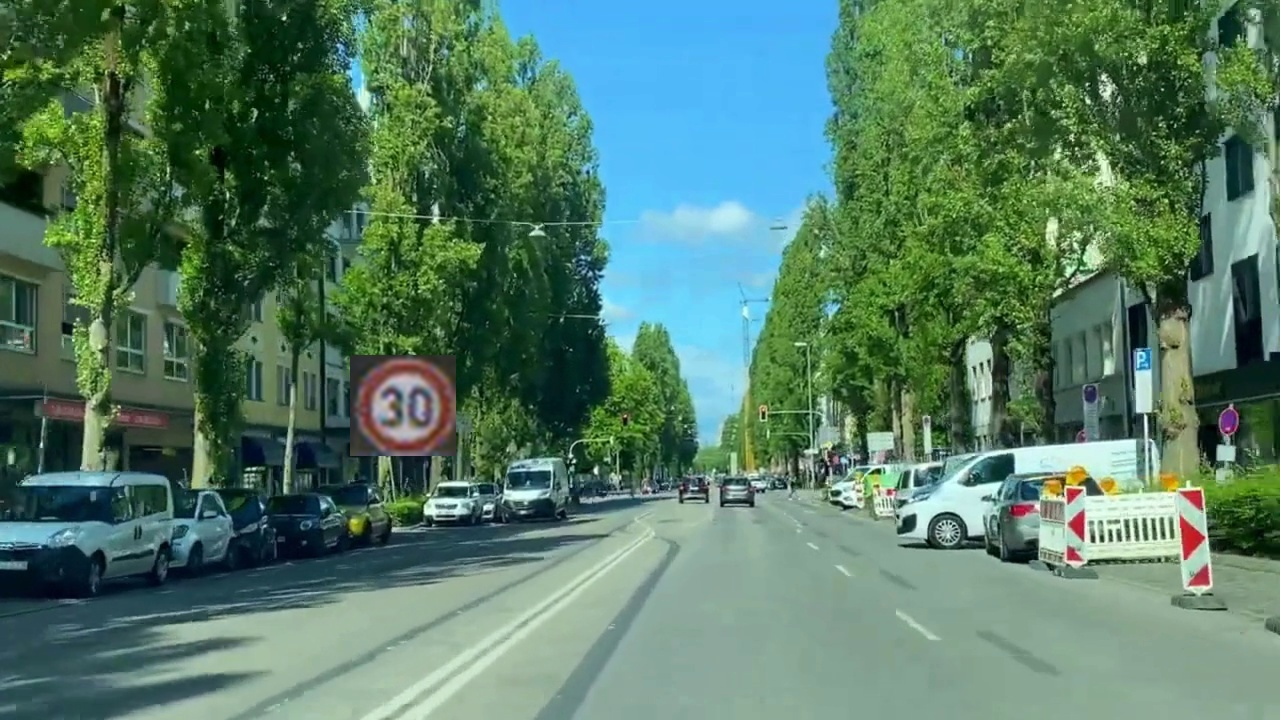Speed 30: (350, 355, 456, 456)
